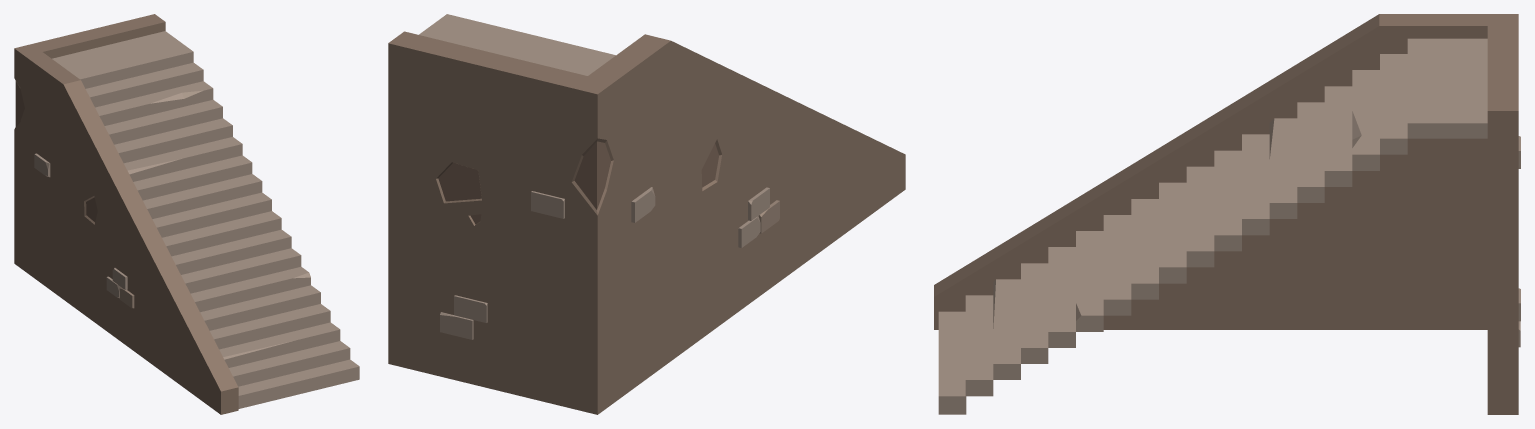
Rendered from Stairs_01R.fbx.
The picture shows the model from 3 angles, left to right: view 1: azimuth 30°, elevation 25°; view 2: azimuth 150°, elevation 25°; view 3: azimuth 270°, elevation 25°; orthographic projection. The views are drawn at different scales.
Parts seen in each view (by area): view 1: Stairs_01R; view 2: Stairs_01R; view 3: Stairs_01R.
Boxes of the visible parts, left/top/right/bottom form: Stairs_01R: left=14, top=14, right=359, bottom=414; Stairs_01R: left=388, top=14, right=905, bottom=414; Stairs_01R: left=934, top=14, right=1520, bottom=414.
Bounding box in the file's own units: 253 × 364 × 637.
